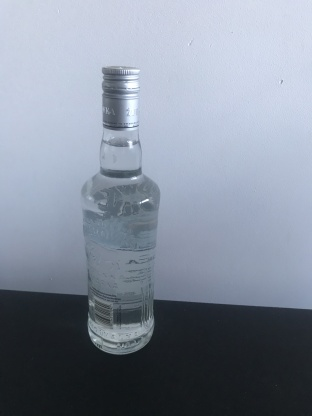nakretka: (100, 63, 141, 131)
